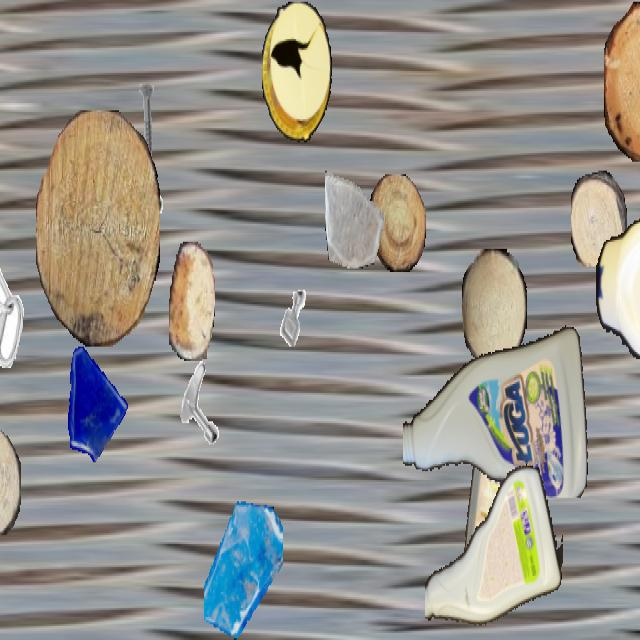glass: (204, 500, 282, 638), (58, 336, 128, 460), (325, 164, 383, 266)
metal: (111, 176, 173, 286), (174, 356, 228, 452), (123, 80, 171, 165), (272, 279, 316, 357), (0, 258, 24, 368)
plastic: (403, 313, 591, 498), (425, 457, 563, 638), (459, 386, 525, 602), (262, 2, 332, 140), (596, 210, 640, 394)
wood: (36, 110, 160, 345), (462, 249, 526, 363), (604, 2, 640, 162), (169, 242, 215, 359), (369, 174, 425, 270), (571, 170, 627, 266), (0, 425, 21, 535)
